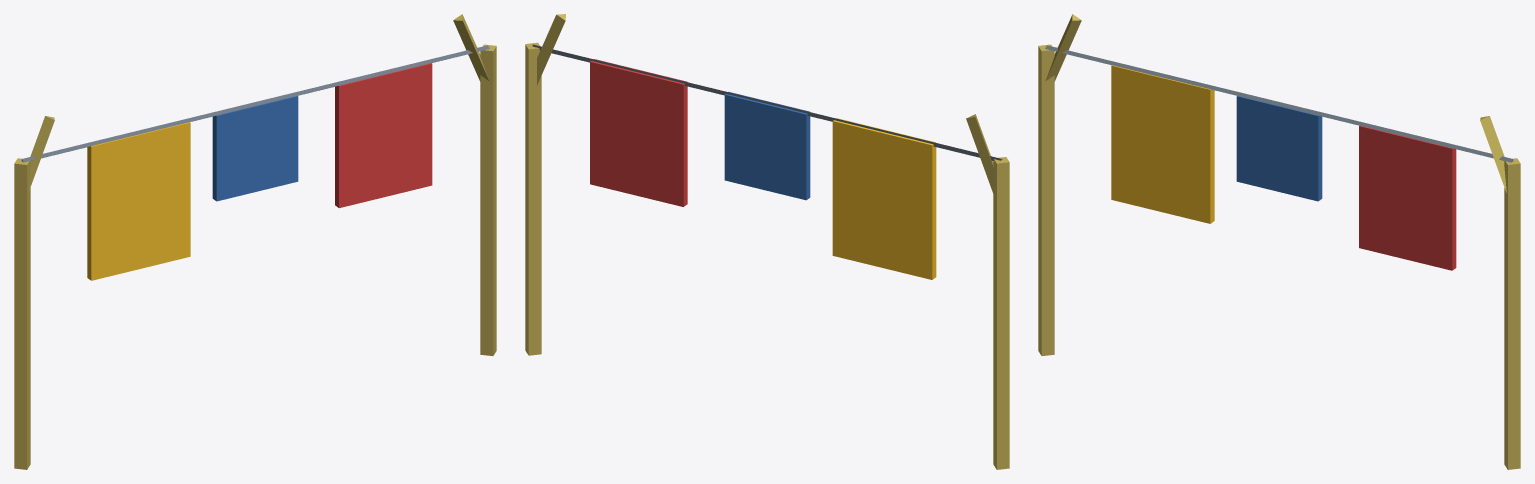
Rendered from varal.glb.
The picture shows the model from 3 angles, left to right: view 1: azimuth 30°, elevation 25°; view 2: azimuth 150°, elevation 25°; view 3: azimuth 330°, elevation 25°; orthographic projection.
Parts seen in each view (by area): view 1: corpo; view 2: corpo; view 3: corpo.
Part boxes in pixels (x1,y1,x2,y2): corpo: (14, 14, 496, 469); corpo: (525, 14, 1009, 469); corpo: (1038, 14, 1520, 469).
Bounding box in the file's own units: 0.828 × 0.5633 × 0.028.
